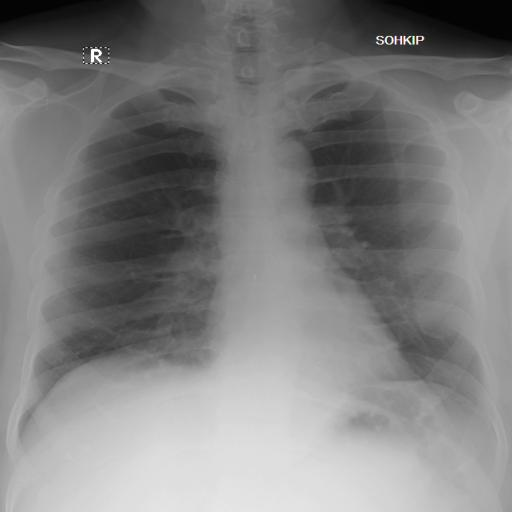normal: (2, 45, 500, 447)
